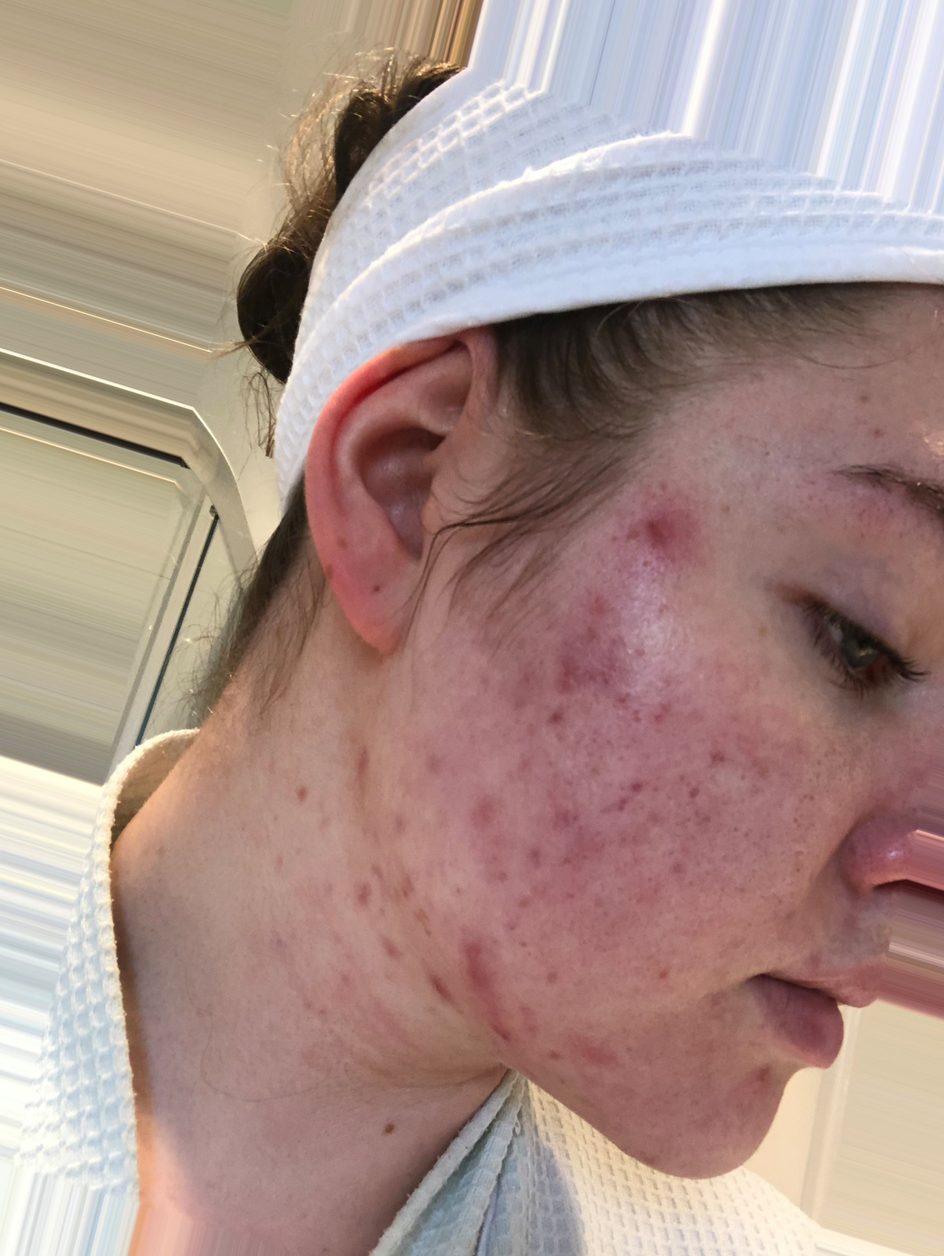Acne: (367, 502, 753, 1075)
